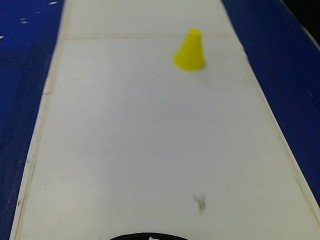cone: (171, 26, 209, 71)
